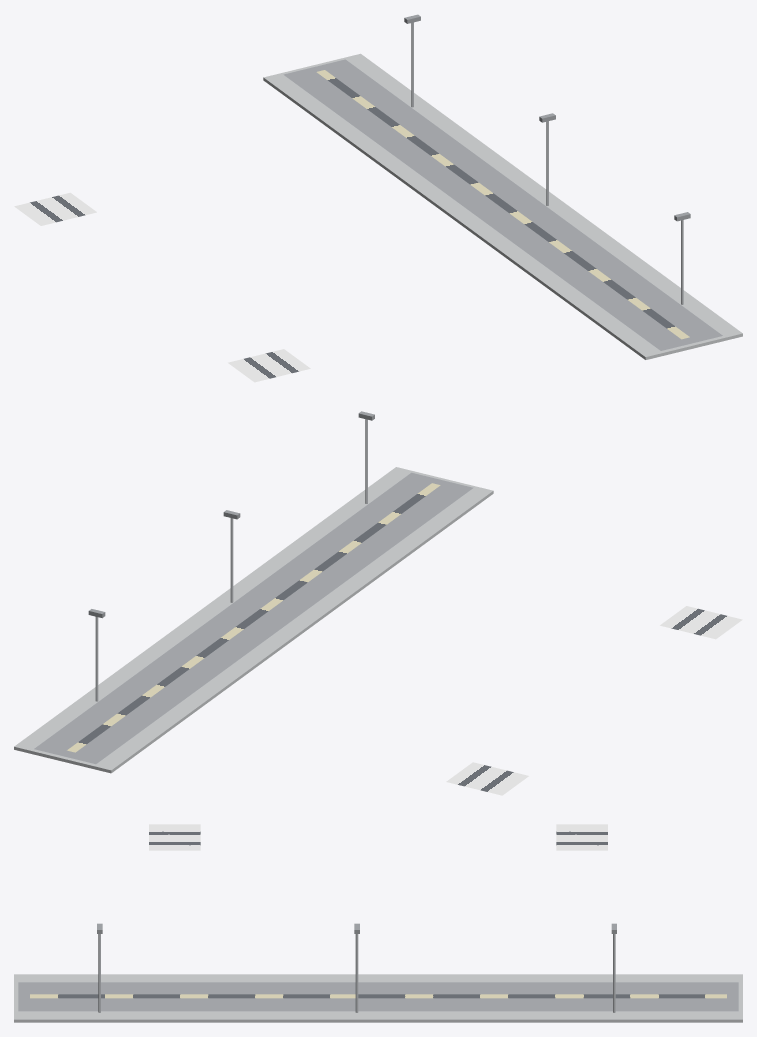
File: Area_road_e.glb
3 renders of one model, top to bottom at view 1: azimuth 30°, elevation 25°; view 2: azimuth 150°, elevation 25°; view 3: azimuth 270°, elevation 25°, orthographic. The views are drawn at different scales.
Visible parts, largest first — view 1: road_road_e, platform.008, dash_road_e, cwx_road_e_0, cwx_road_e_1; view 2: road_road_e, platform.008, dash_road_e, cwx_road_e_1, cwx_road_e_0; view 3: road_road_e, platform.008, dash_road_e, cwx_road_e_0, cwx_road_e_1.
Boxes of the visible parts, left/top/right/bottom form: road_road_e: left=283, top=59, right=722, bottom=350; platform.008: left=263, top=53, right=742, bottom=359; dash_road_e: left=316, top=70, right=689, bottom=339; cwx_road_e_0: left=228, top=349, right=310, bottom=382; cwx_road_e_1: left=14, top=192, right=96, bottom=225; road_road_e: left=34, top=472, right=473, bottom=764; platform.008: left=14, top=467, right=493, bottom=773; dash_road_e: left=67, top=483, right=440, bottom=752; cwx_road_e_1: left=446, top=762, right=528, bottom=795; cwx_road_e_0: left=660, top=606, right=742, bottom=639; road_road_e: left=18, top=982, right=738, bottom=1011; platform.008: left=14, top=974, right=742, bottom=1022; dash_road_e: left=30, top=994, right=726, bottom=998; cwx_road_e_0: left=149, top=824, right=200, bottom=850; cwx_road_e_1: left=556, top=824, right=607, bottom=850.
Size of the model in its own units: 21.45 by 4.55 by 34.
Materials: 6 (2 with a texture image).
